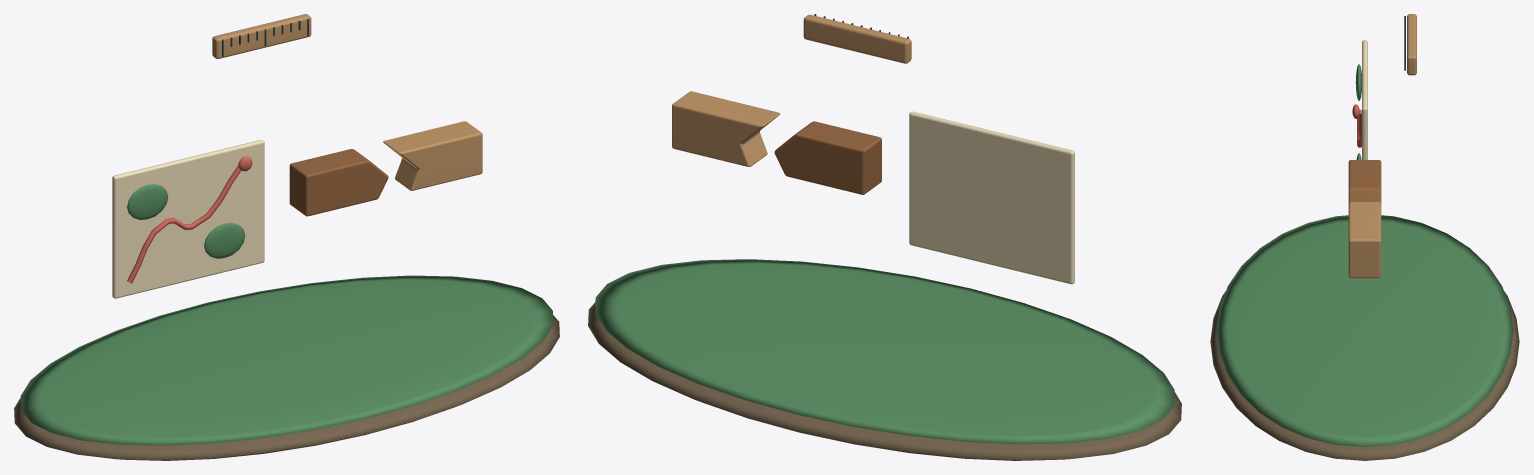
File: complete-third-district-separation.glb
3 views of the same model, side by side, from view 1: azimuth 30°, elevation 25°; view 2: azimuth 150°, elevation 25°; view 3: azimuth 270°, elevation 25° (orthographic). The views are drawn at different scales.
Parts seen in each view (by area): view 1: complete-third-district-separation_surface_01, complete-third-district-separation_surface_02, complete-third-district-separation_surface_00, complete-third-district-separation_surface_05, complete-third-district-separation_surface_04, complete-third-district-separation_surface_03; view 2: complete-third-district-separation_surface_01, complete-third-district-separation_surface_02, complete-third-district-separation_surface_00, complete-third-district-separation_surface_05, complete-third-district-separation_surface_04; view 3: complete-third-district-separation_surface_01, complete-third-district-separation_surface_00, complete-third-district-separation_surface_05, complete-third-district-separation_surface_04, complete-third-district-separation_surface_02.
Boxes of the visible parts, x1,y1,x2,y2 form: complete-third-district-separation_surface_01: (20,184,553,445); complete-third-district-separation_surface_02: (112,140,264,298); complete-third-district-separation_surface_00: (14,315,559,460); complete-third-district-separation_surface_05: (212,14,482,190); complete-third-district-separation_surface_04: (289,149,388,216); complete-third-district-separation_surface_03: (127,156,252,283); complete-third-district-separation_surface_01: (595,259,1174,444); complete-third-district-separation_surface_02: (909,111,1074,284); complete-third-district-separation_surface_00: (588,302,1181,460); complete-third-district-separation_surface_05: (672,14,911,166); complete-third-district-separation_surface_04: (774,121,881,194); complete-third-district-separation_surface_01: (1216,64,1513,446); complete-third-district-separation_surface_00: (1210,291,1519,460); complete-third-district-separation_surface_05: (1348,14,1416,278); complete-third-district-separation_surface_04: (1348,160,1381,204); complete-third-district-separation_surface_02: (1362,40,1367,159).
Size of the model in its own units: 4.56 by 2.87 by 2.5.
